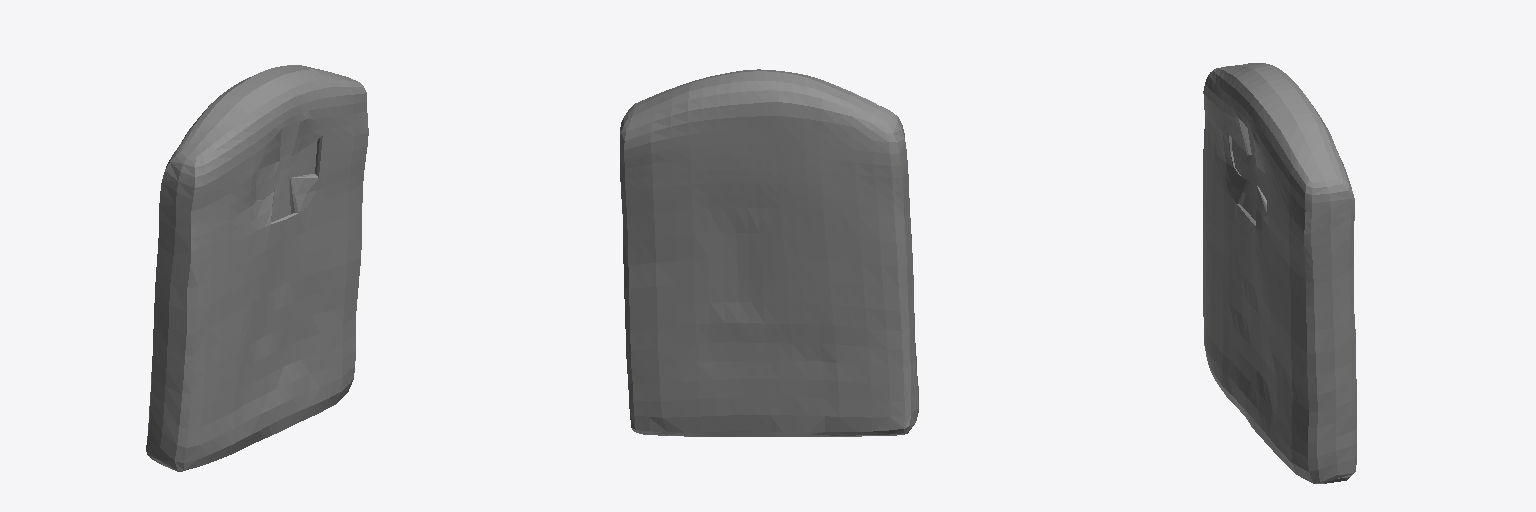
Rendered from gravestone01.obj.
The picture shows the model from 3 angles: view 1: azimuth 30°, elevation 25°; view 2: azimuth 150°, elevation 25°; view 3: azimuth 270°, elevation 25°; orthographic projection.
Visible parts, largest first — view 1: gravestone01; view 2: gravestone01; view 3: gravestone01.
Part boxes in pixels (x1,y1,x2,y2): gravestone01: (146, 65, 368, 471); gravestone01: (620, 69, 918, 436); gravestone01: (1203, 63, 1356, 483).
Size of the model in its own units: 0.1521 by 0.2051 by 0.0809.